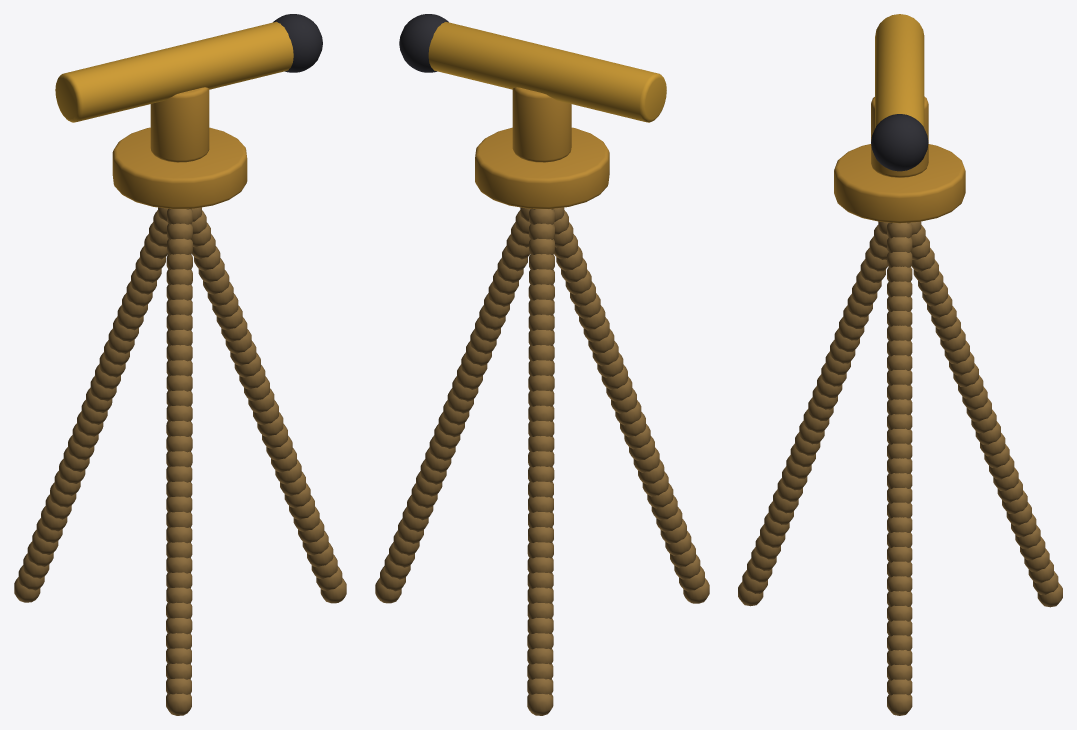
The model's file is teodolito.glb.
3 renders of one model, left to right at view 1: azimuth 30°, elevation 25°; view 2: azimuth 150°, elevation 25°; view 3: azimuth 270°, elevation 25°, orthographic. The views are drawn at different scales.
Parts seen in each view (by area): view 1: teodolito; view 2: teodolito; view 3: teodolito.
Part boxes in pixels (bbox=[...]): teodolito: bbox=[14, 14, 346, 715]; teodolito: bbox=[375, 14, 709, 715]; teodolito: bbox=[738, 14, 1062, 715].
Bounding box in the file's own units: 0.7609 × 1.55 × 0.7903.
